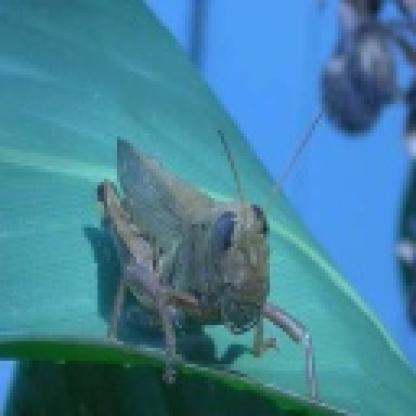grasshopper: (103, 130, 328, 398)
